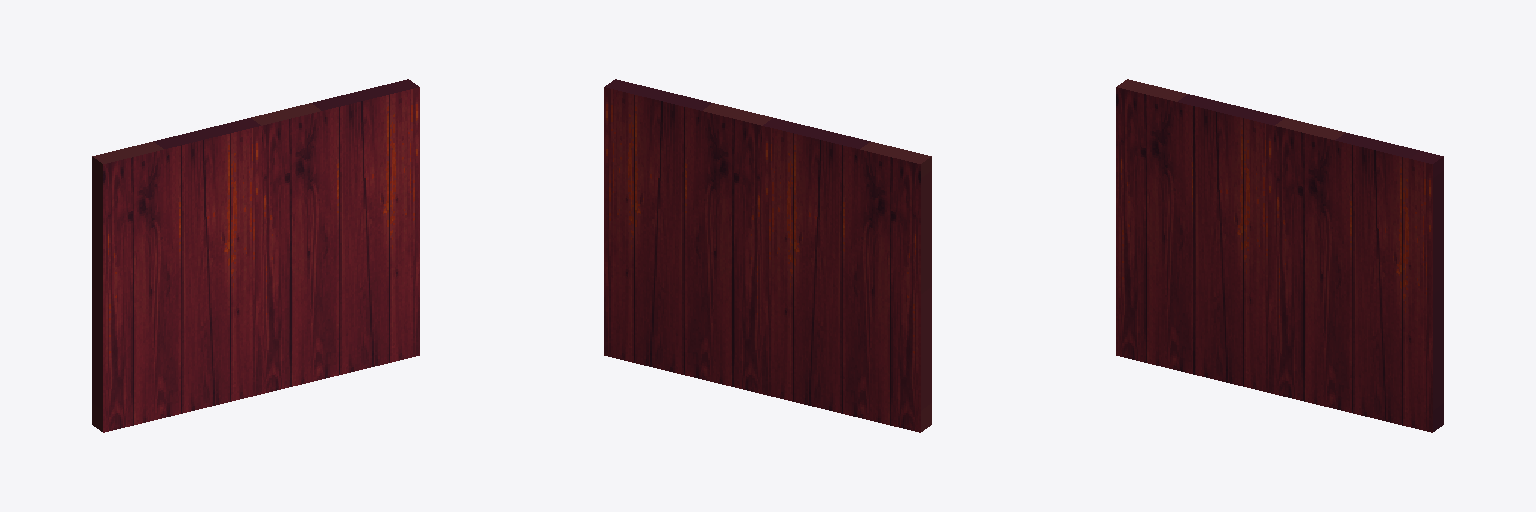
3 views of the same model, side by side, from view 1: azimuth 30°, elevation 25°; view 2: azimuth 150°, elevation 25°; view 3: azimuth 330°, elevation 25° (orthographic).
Parts seen in each view (by area): view 1: Cube.038; view 2: Cube.038; view 3: Cube.038.
Boxes of the visible parts, x1=… form: Cube.038: x1=92, y1=79, x2=419, y2=432; Cube.038: x1=604, y1=79, x2=931, y2=432; Cube.038: x1=1116, y1=79, x2=1443, y2=432.
Bounding box in the file's own units: 5.91 × 4.79 × 0.3571.
1 materials, 1 textured.